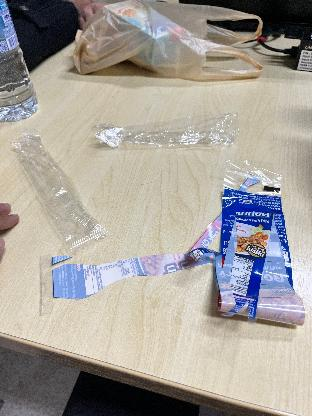Others: (190, 166, 312, 332), (5, 136, 106, 246), (81, 117, 244, 155)
